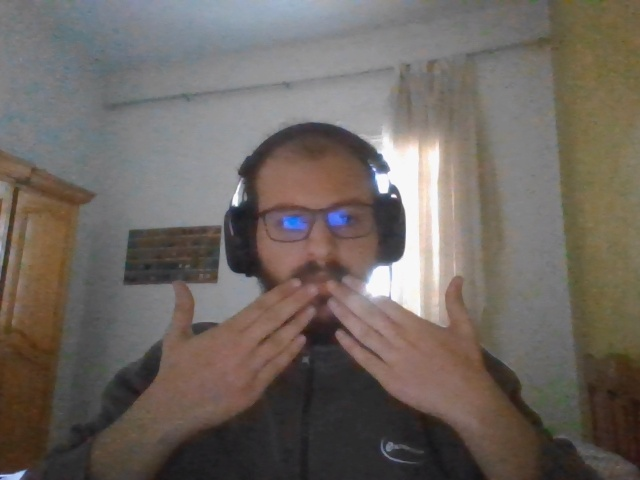Thank You: (169, 278, 473, 414)
